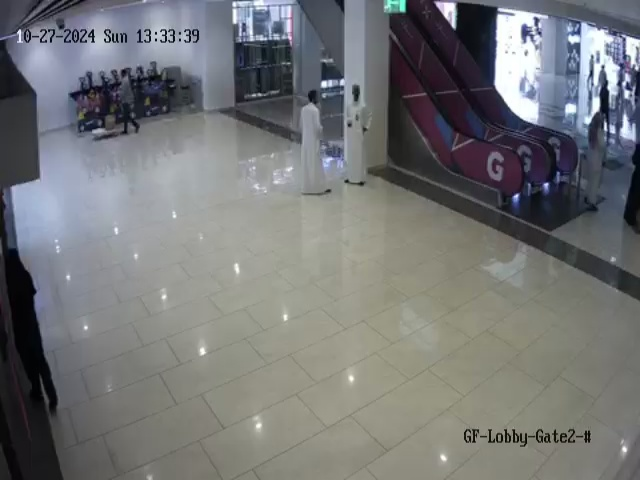female: (584, 108, 608, 211), (615, 59, 630, 103), (602, 80, 611, 108)
male: (299, 89, 332, 196), (118, 68, 140, 135), (588, 52, 596, 87), (600, 64, 605, 77)
other: (341, 83, 376, 190)
